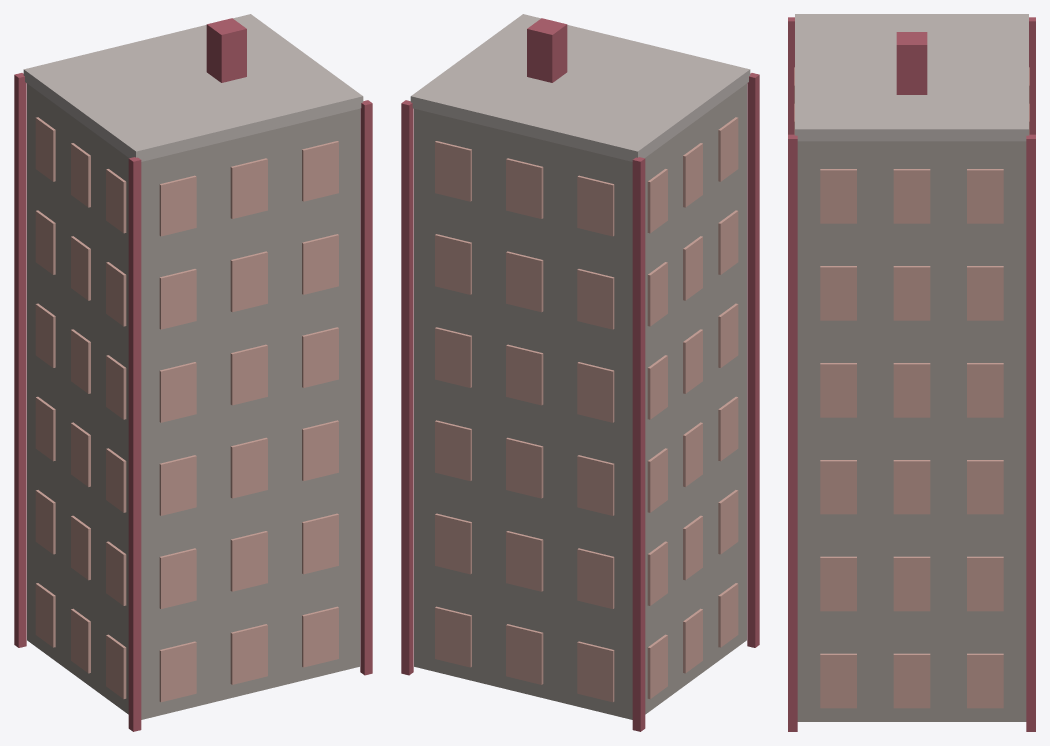
Rendered from palace.glb.
3 views of the same model, side by side, from view 1: azimuth 30°, elevation 25°; view 2: azimuth 150°, elevation 25°; view 3: azimuth 270°, elevation 25° (orthographic). The views are drawn at different scales.
Size of the model in its own units: 7.53 by 18.77 by 6.49.
